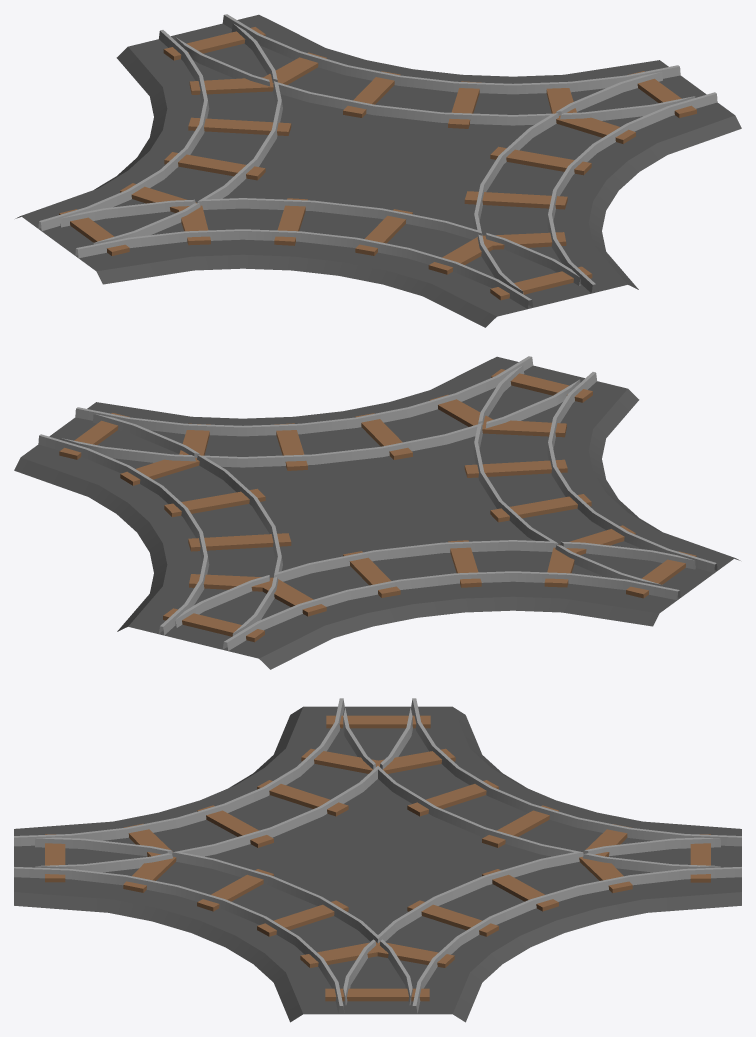
The picture shows the model from 3 angles, top to bottom: view 1: azimuth 30°, elevation 25°; view 2: azimuth 150°, elevation 25°; view 3: azimuth 270°, elevation 25°; orthographic projection.
Visible parts, largest first — view 1: 1_X_curve; view 2: 1_X_curve; view 3: 1_X_curve.
Boxes of the visible parts, <box> form: 1_X_curve: <box>15,14,741,327</box>; 1_X_curve: <box>14,356,740,669</box>; 1_X_curve: <box>14,698,741,1022</box>.
Bounding box in the file's own units: 8 × 0.2 × 8.
